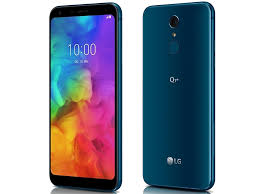lg: (44, 1, 125, 194), (138, 1, 219, 193)
